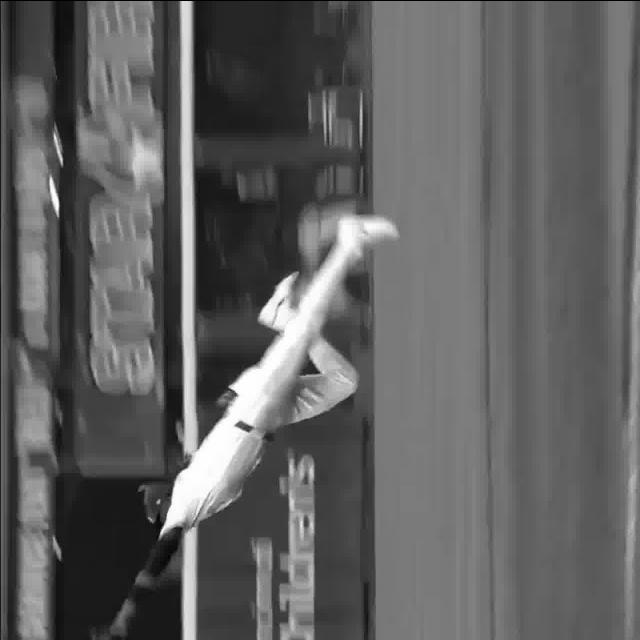shoe: (262, 260, 310, 340), (336, 208, 399, 251)
